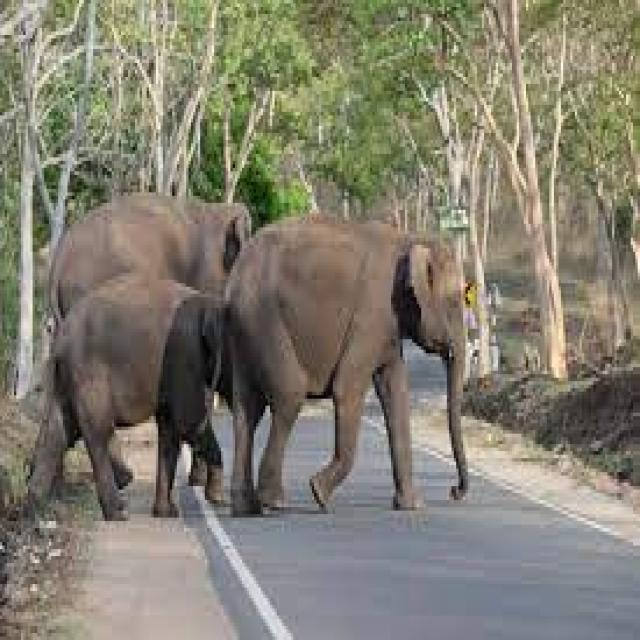Elephant: (221, 203, 478, 518), (36, 288, 254, 515), (53, 182, 282, 338)
